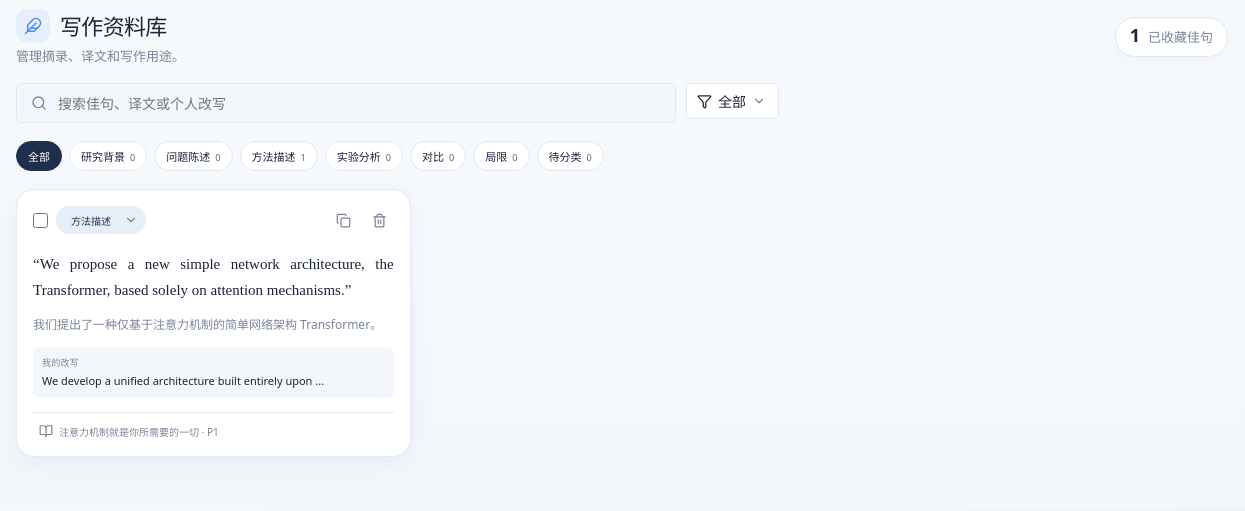
Test: writing library errors › shows an error when deleting an excerpt fails
Click the button titled "删除": (380,220) x1=366 y1=206 x2=394 y2=234
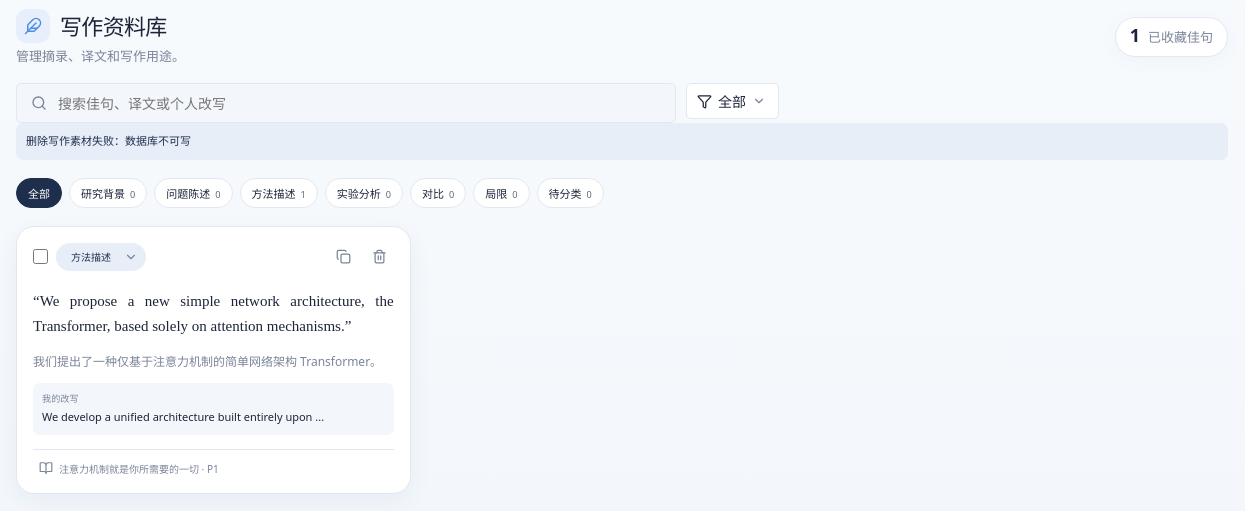
Expected: the text "我的改写" is shown, x1=42 y1=392 x2=79 y2=406
Result: the message reads "删除写作素材失败：数据库不可写" at x1=26 y1=133 x2=191 y2=148
